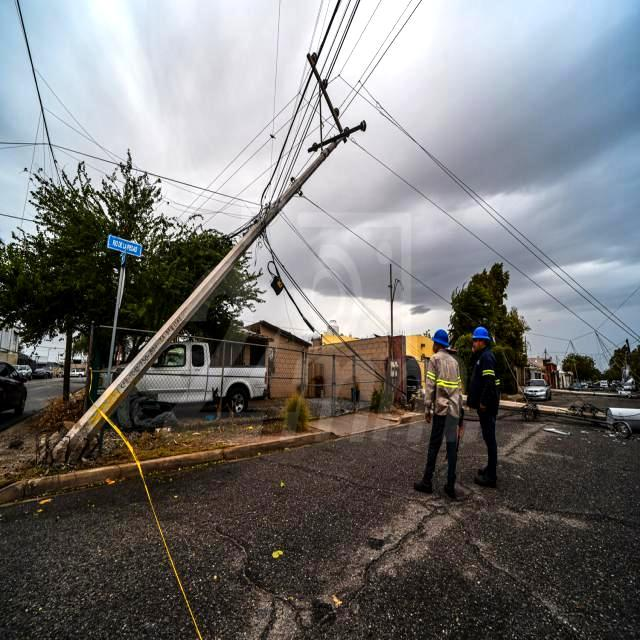Broken Pole: (47, 46, 370, 467)
